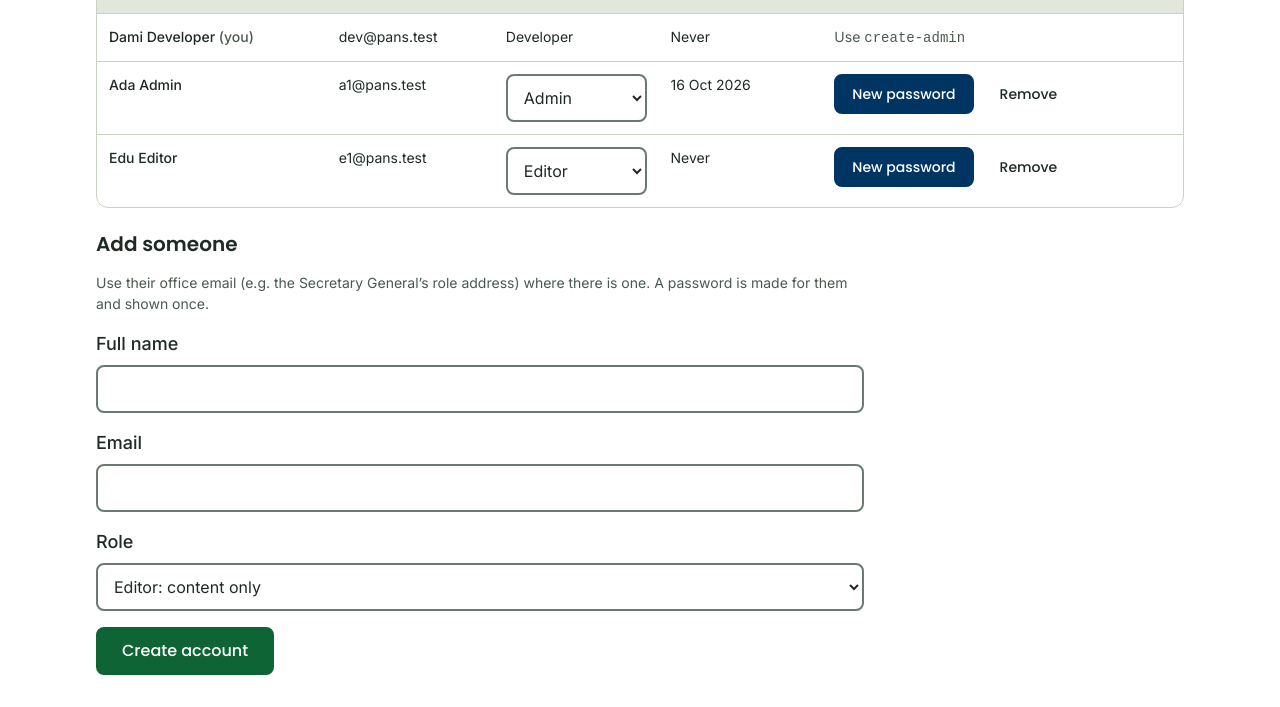
it: Accounts page › shows a taken email next to the field
(page scrolled)
Type "Ada Again" into the field labelled "Full name" at (480, 389), box [96,365,864,413]
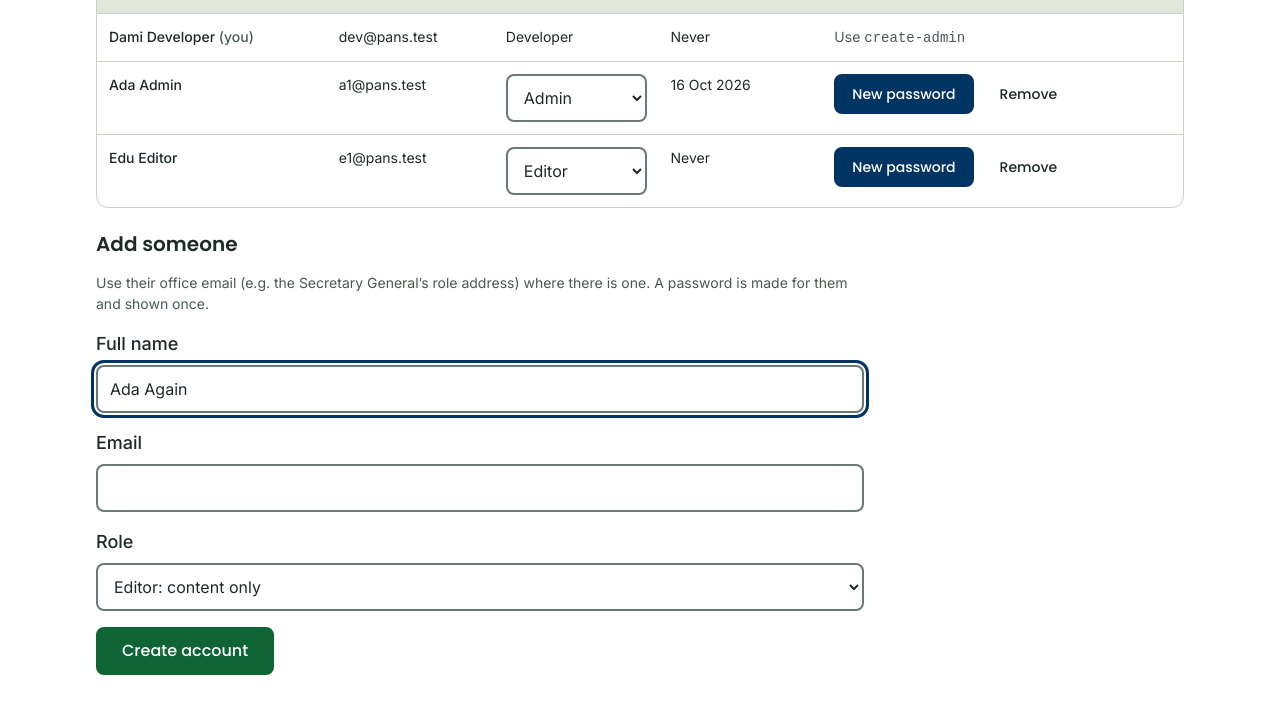
Type "a1@pans.test" into the field labelled "Email" at (480, 488), box [96,464,864,512]
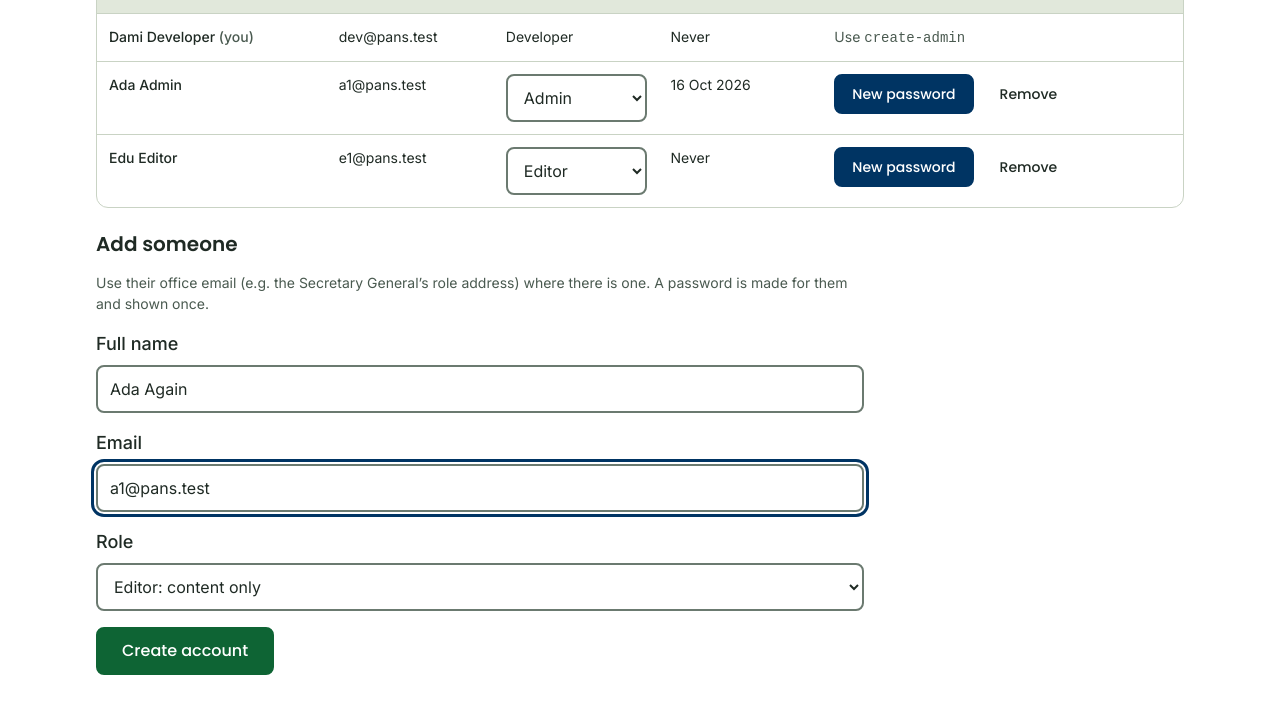
Click the button "Create account" at (185, 651), box [96,627,274,675]
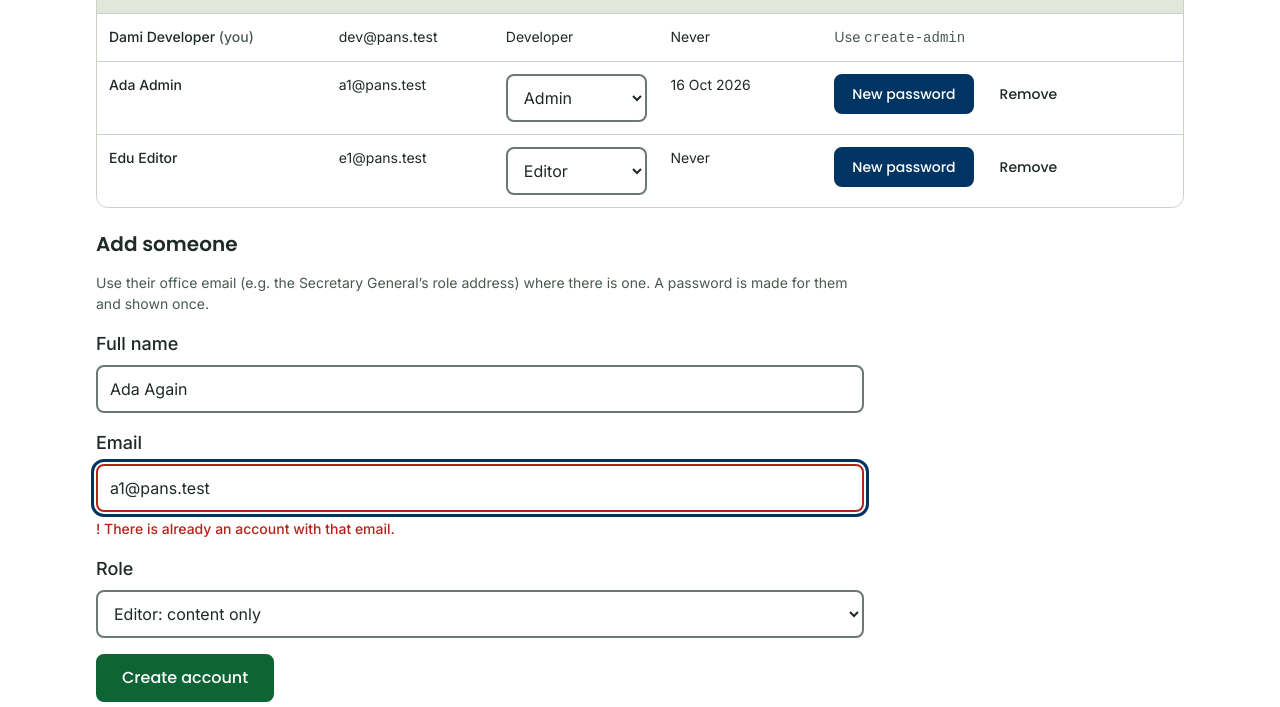
Now the text "There is already an account with that email." is shown, box [104,520,395,537]
